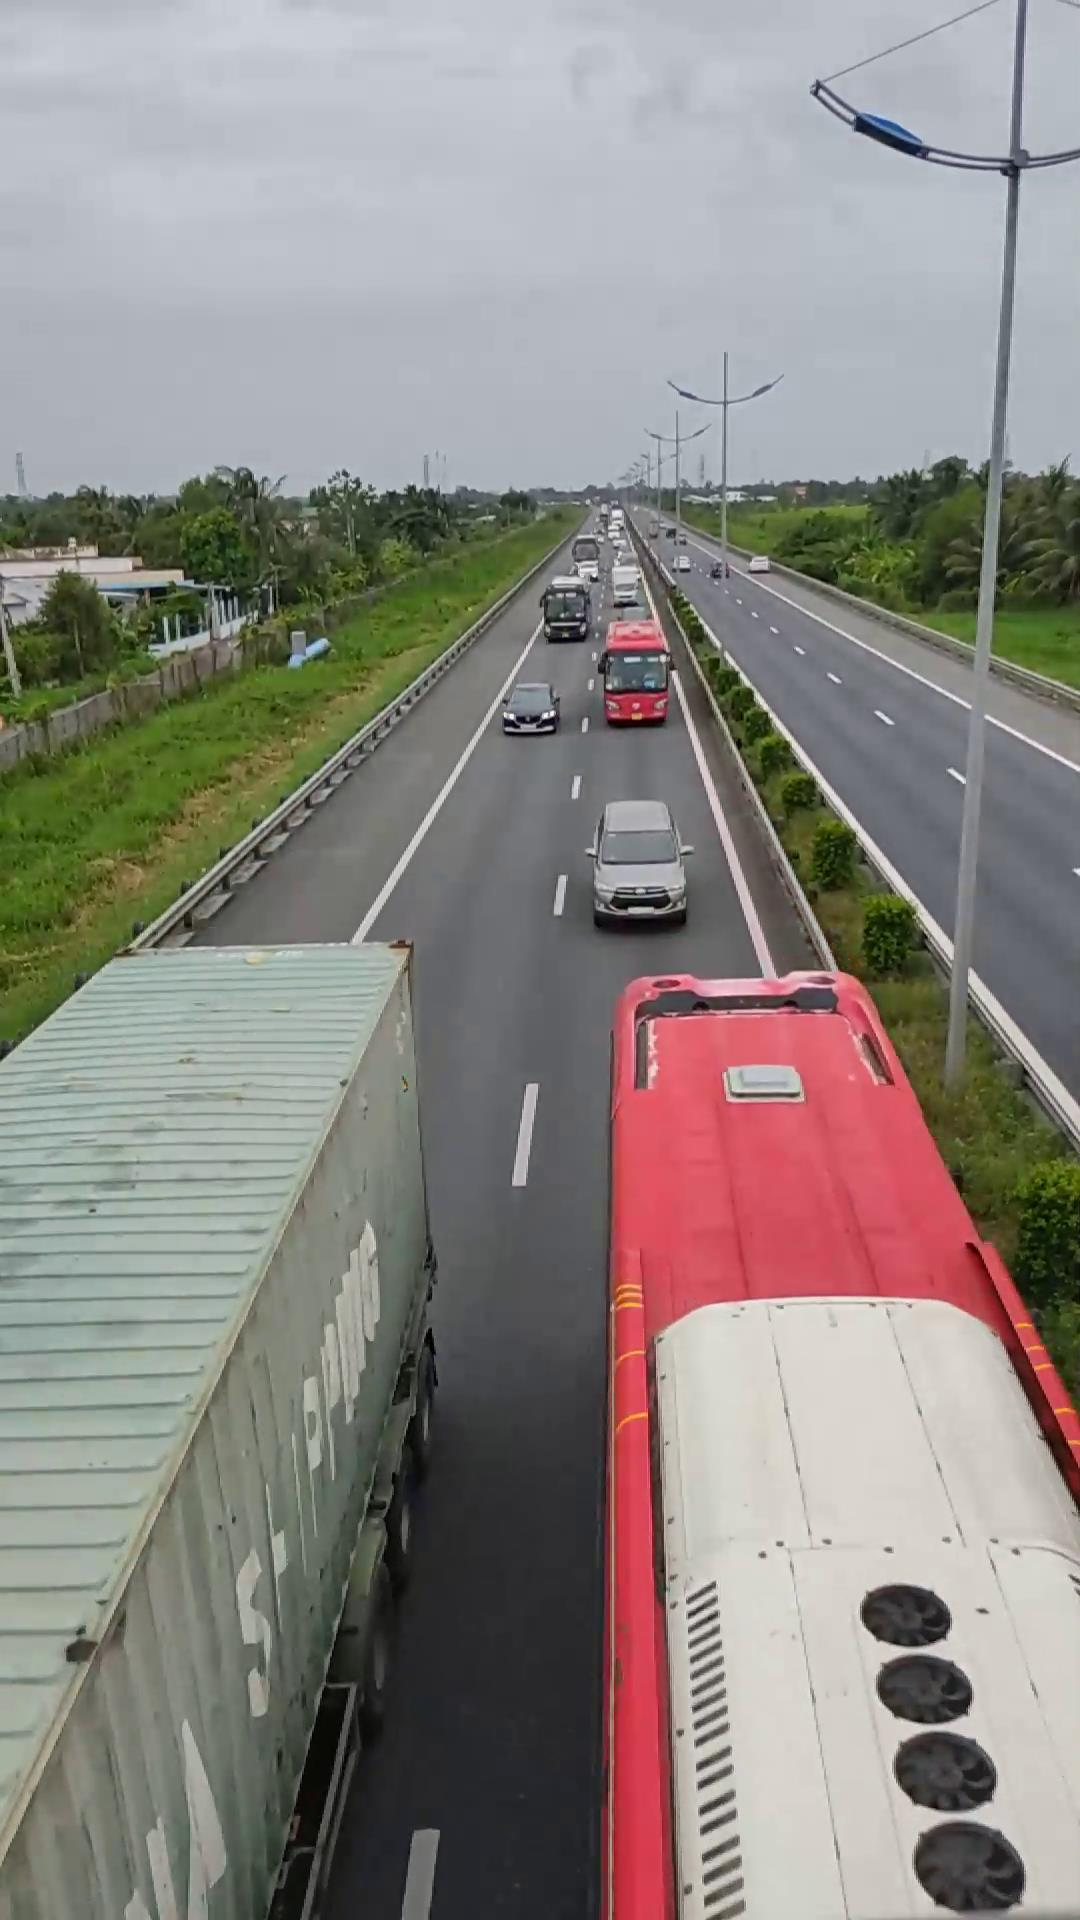bus: (605, 971, 1073, 1909)
car: (585, 798, 692, 924)
container: (0, 930, 448, 1919)
